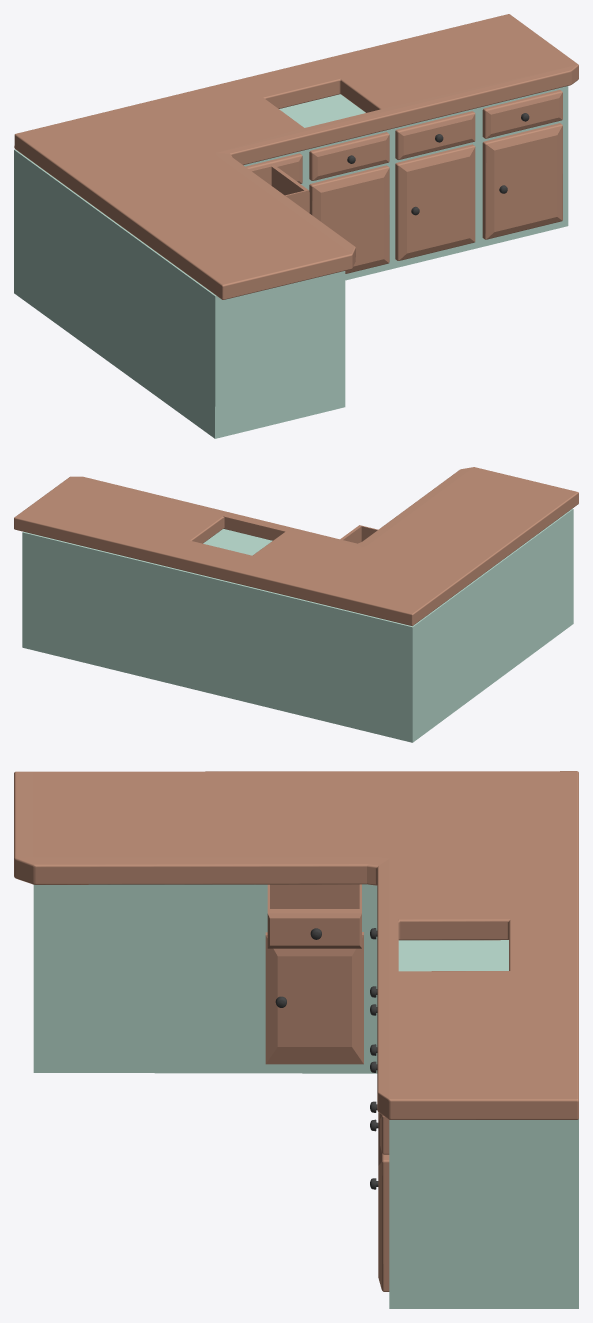
Rendered from encimera.fbx.
3 renders of one model, top to bottom at view 1: azimuth 30°, elevation 25°; view 2: azimuth 150°, elevation 25°; view 3: azimuth 270°, elevation 25°, orthographic. The views are drawn at different scales.
Parts seen in each view (by area): view 1: encimera.003, encimera, encimera.002, CAJÓN VIDEOJUEGO; view 2: encimera, encimera.003, CAJÓN VIDEOJUEGO; view 3: encimera.003, encimera, CAJÓN VIDEOJUEGO, encimera.002.
Boxes of the visible parts, <box> form: encimera.003: <box>14,14,578,299</box>; encimera: <box>14,86,568,438</box>; encimera.002: <box>245,90,562,273</box>; CAJÓN VIDEOJUEGO: <box>251,165,309,212</box>; encimera: <box>22,508,573,742</box>; encimera.003: <box>14,467,578,626</box>; CAJÓN VIDEOJUEGO: <box>340,525,377,543</box>; encimera.003: <box>14,771,578,1119</box>; encimera: <box>33,884,578,1308</box>; CAJÓN VIDEOJUEGO: <box>265,884,363,1064</box>; encimera.002: <box>378,1112,389,1291</box>.
Bounding box in the file's own units: 529 × 224 × 728.
